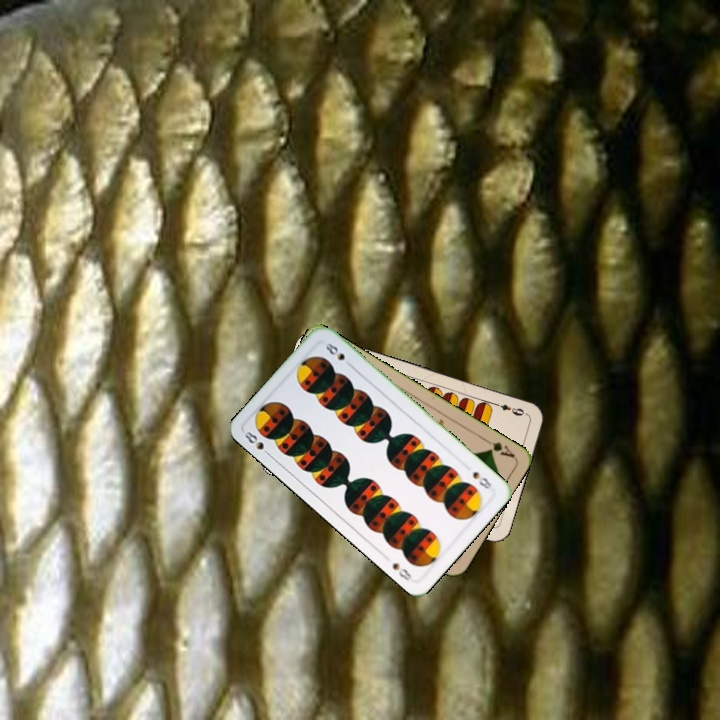E9: (490, 399, 529, 419)
GA: (479, 434, 517, 460)
S8: (241, 427, 274, 459), (469, 467, 495, 492)
